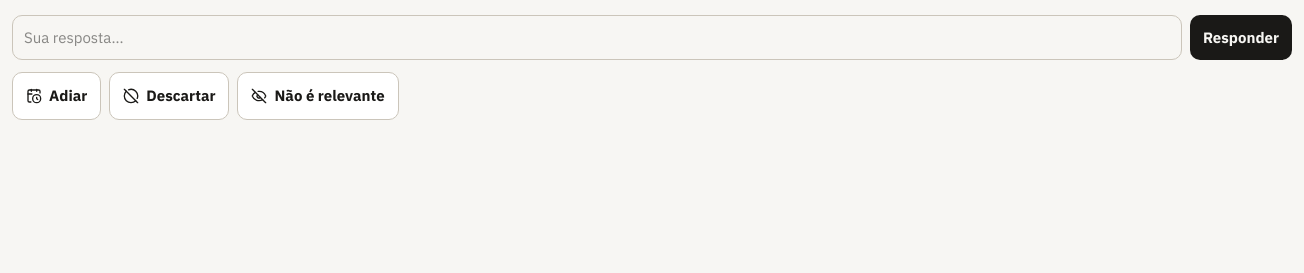
Test: QuestionAnswerForm › closes the defer panel without submitting when cancelled
Click the button "Adiar" at point(57, 96), box [12,72,101,120]
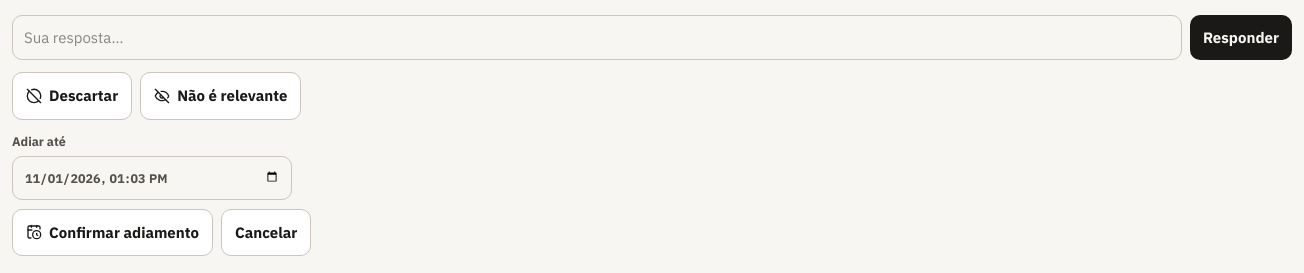
Result: the field labelled "Adiar até" is shown at [12,156,292,200]
Click the button "Cancelar" at point(266, 232), box [221,209,311,256]
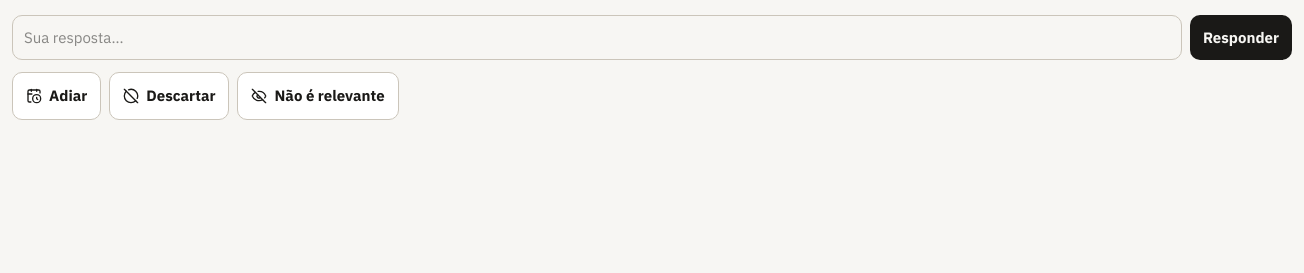
Result: the label labelled "Adiar até" is gone
